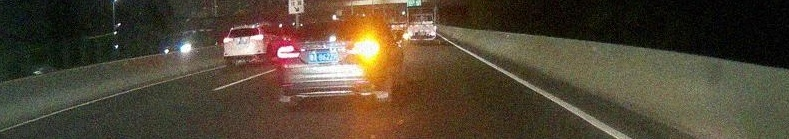L_light: (276, 44, 300, 59), (223, 37, 233, 43)
R_light: (354, 42, 380, 55), (251, 35, 263, 41)
T_light: (326, 21, 342, 25), (240, 28, 248, 30)
night-no: (223, 24, 266, 66)
night-right: (276, 19, 386, 109)
